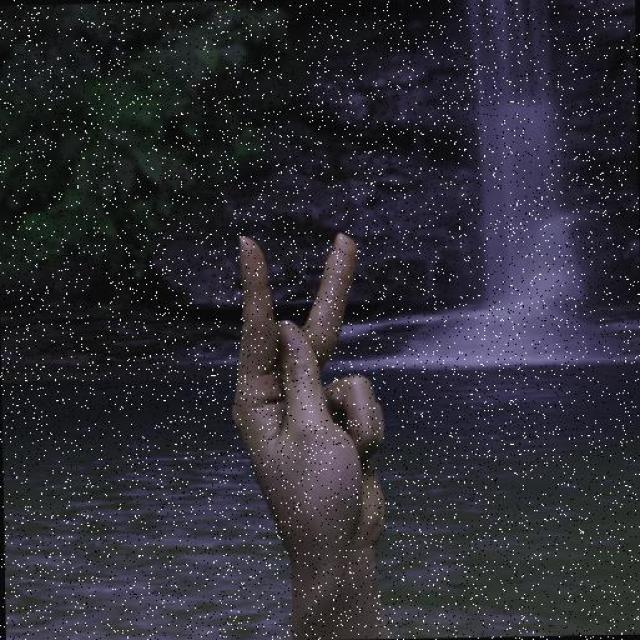K: (208, 218, 410, 594)
